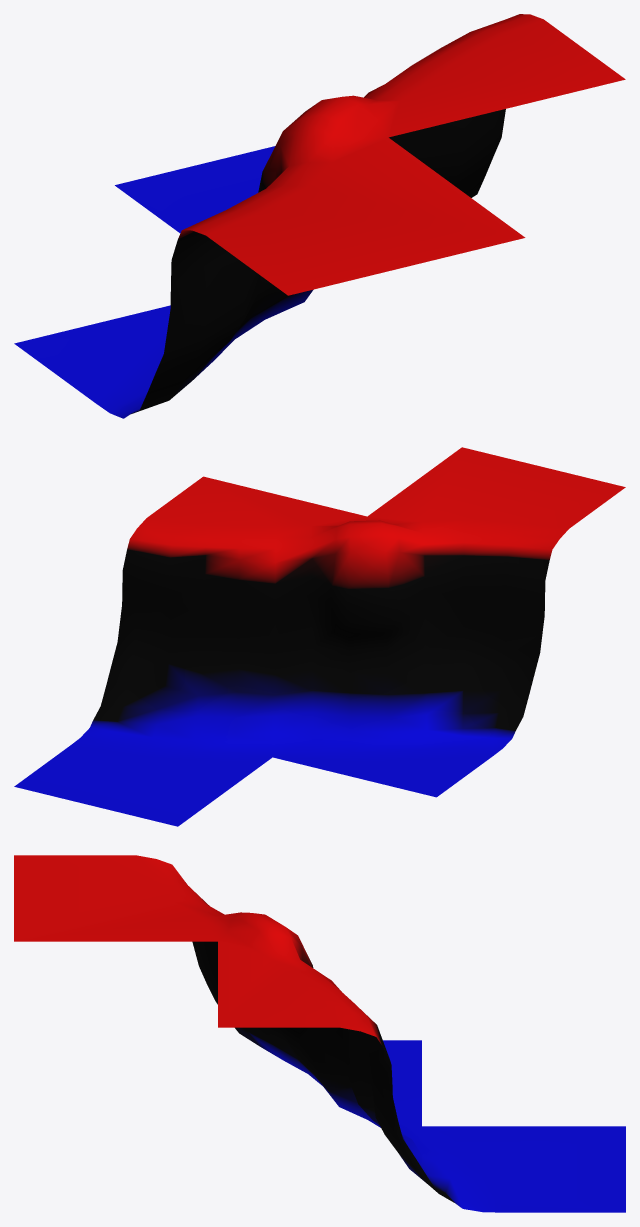
File: RiveCliff03B Background.fbx
3 renders of one model, top to bottom at view 1: azimuth 30°, elevation 25°; view 2: azimuth 150°, elevation 25°; view 3: azimuth 270°, elevation 25°, orthographic. The views are drawn at different scales.
Visible parts, largest first — view 1: RiveCliff03B Background; view 2: RiveCliff03B Background; view 3: RiveCliff03B Background.
Part boxes in pixels (x1,y1,x2,y2): RiveCliff03B Background: (14,14,625,418); RiveCliff03B Background: (14,447,625,826); RiveCliff03B Background: (14,855,625,1212).
Size of the model in its own units: 2 by 1.07 by 3.
